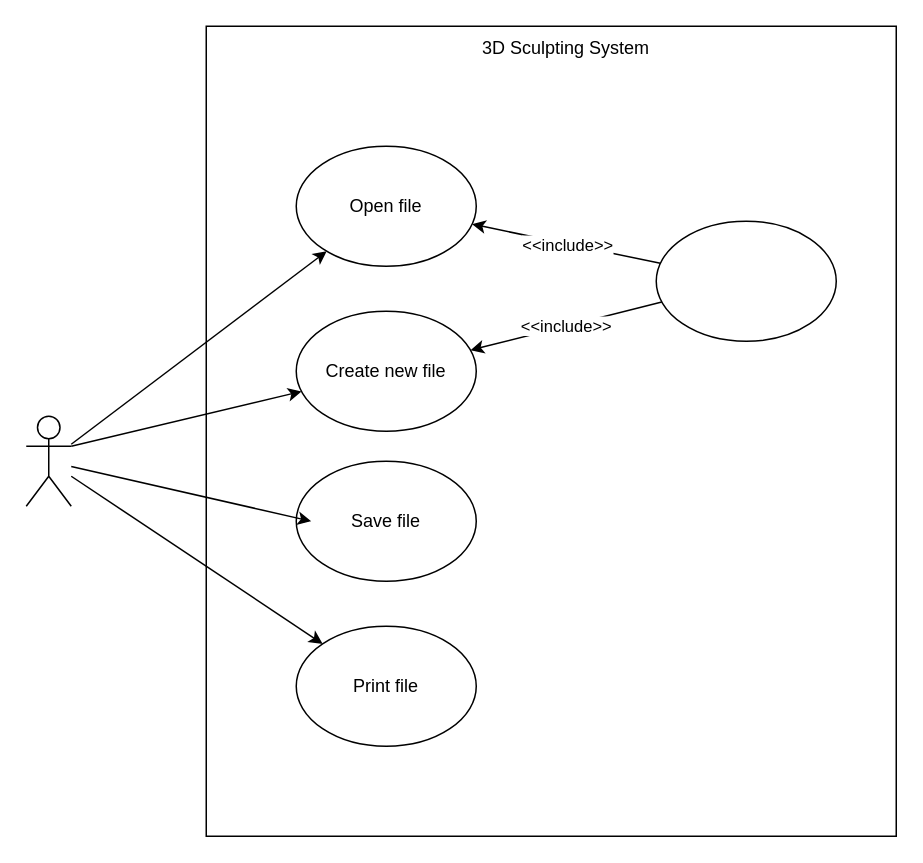
Some shapes in this 923 by 863 pixel diagram are drawn without their labels. The shapes that lost their labels are listed below. From the top down, each one's box as (x1, y1, x2, y2) in pixels, then its label:
(655, 220, 836, 341): Edit 3D object
(25, 415, 71, 506): User
